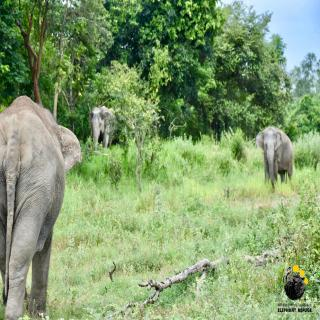Elephant: (0, 92, 84, 320), (255, 126, 300, 190), (88, 104, 122, 152)
